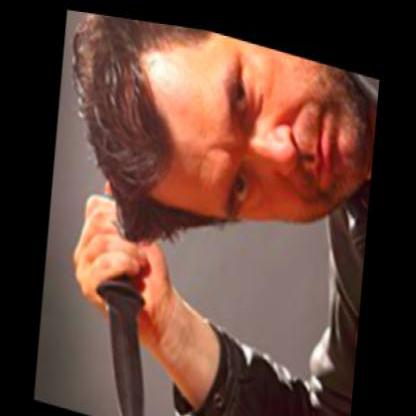knife: (52, 224, 163, 414)
